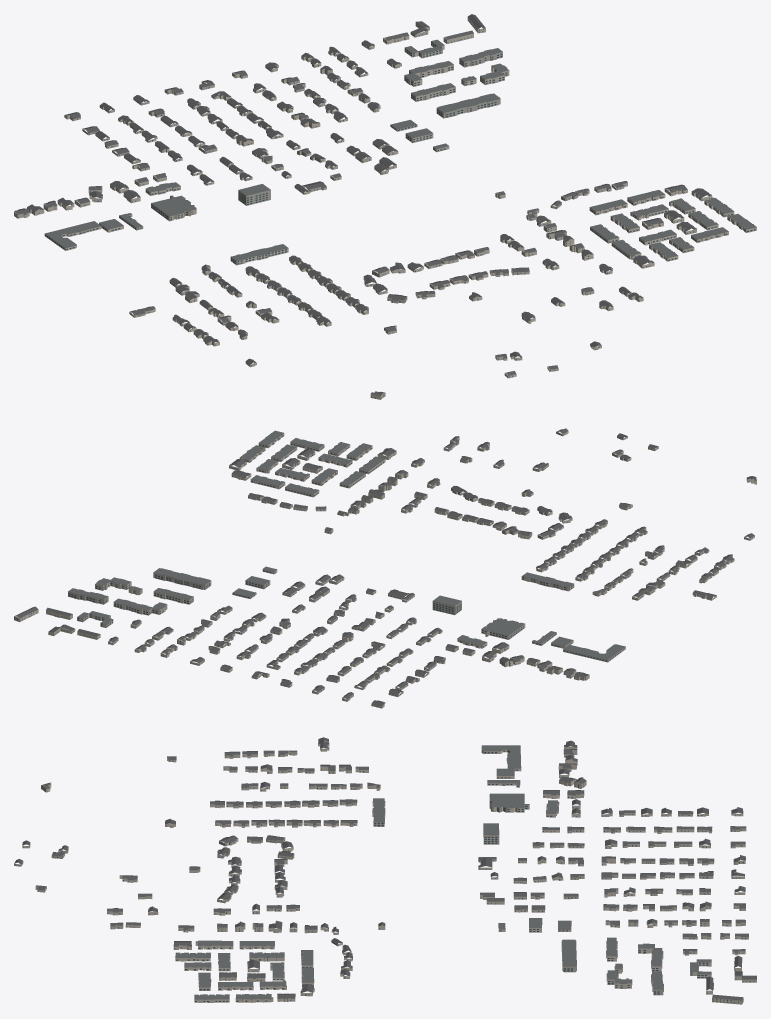
3 views of the same model, one above another, from view 1: azimuth 30°, elevation 25°; view 2: azimuth 150°, elevation 25°; view 3: azimuth 270°, elevation 25° (orthographic). The views are drawn at different scales.
Parts seen in each view (by area): view 1: Buildings (0, -1) Roof shingles, Buildings (0, -1) Masonry brick, Buildings (0, -1) Roof membrane, Buildings (0, -1) House siding, Buildings (0, -1) Architectural tinted glass, Buildings (0, -1) Architectural concrete; view 2: Buildings (0, -1) Roof shingles, Buildings (0, -1) Masonry brick, Buildings (0, -1) Roof membrane, Buildings (0, -1) House siding, Buildings (0, -1) Architectural tinted glass, Buildings (0, -1) Architectural concrete; view 3: Buildings (0, -1) Roof shingles, Buildings (0, -1) Masonry brick, Buildings (0, -1) Roof membrane, Buildings (0, -1) House siding, Buildings (0, -1) Architectural tinted glass, Buildings (0, -1) Metal coping.
Part boxes in pixels (x1=…): Buildings (0, -1) Roof shingles: x1=14, y1=14, x2=711, y2=395; Buildings (0, -1) Masonry brick: x1=43, y1=17, x2=756, y2=399; Buildings (0, -1) Roof membrane: x1=45, y1=39, x2=756, y2=260; Buildings (0, -1) House siding: x1=14, y1=22, x2=696, y2=371; Buildings (0, -1) Architectural tinted glass: x1=18, y1=17, x2=755, y2=398; Buildings (0, -1) Architectural concrete: x1=238, y1=52, x2=502, y2=205; Buildings (0, -1) Roof shingles: x1=14, y1=428, x2=756, y2=706; Buildings (0, -1) Masonry brick: x1=14, y1=431, x2=756, y2=708; Buildings (0, -1) Roof membrane: x1=68, y1=431, x2=625, y2=659; Buildings (0, -1) House siding: x1=48, y1=435, x2=754, y2=701; Buildings (0, -1) Architectural tinted glass: x1=14, y1=432, x2=750, y2=706; Buildings (0, -1) Architectural concrete: x1=68, y1=572, x2=461, y2=615; Buildings (0, -1) Roof shingles: x1=14, y1=737, x2=756, y2=1000; Buildings (0, -1) Masonry brick: x1=22, y1=740, x2=748, y2=1004; Buildings (0, -1) Roof membrane: x1=175, y1=745, x2=711, y2=999; Buildings (0, -1) House siding: x1=14, y1=745, x2=756, y2=982; Buildings (0, -1) Architectural tinted glass: x1=14, y1=749, x2=754, y2=1003; Buildings (0, -1) Metal coping: x1=175, y1=745, x2=702, y2=999.
Bounding box in the file's own units: 853 × 17.51 × 1019.
